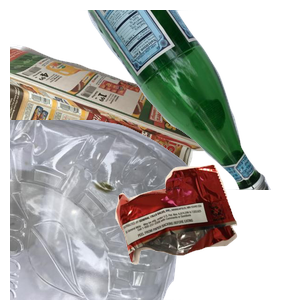glass: (75, 10, 300, 190)
paper: (10, 42, 224, 222)
plastic: (10, 120, 197, 300)
trash: (113, 162, 300, 300)
